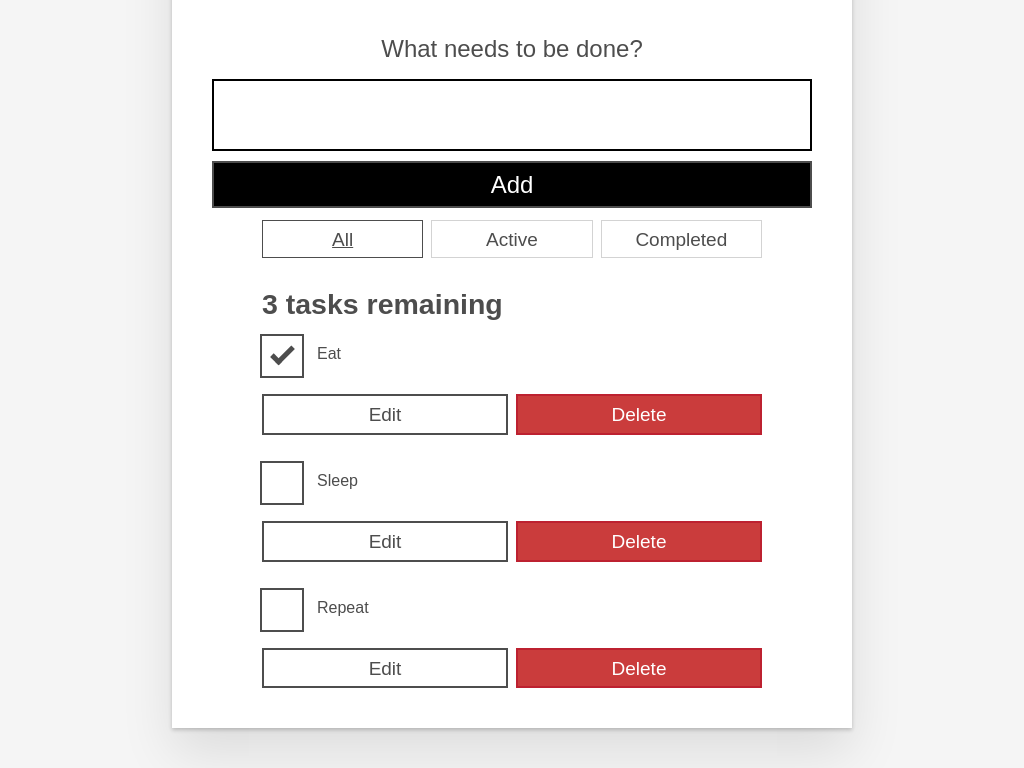
Test: Rendering of the app › should reduce number of tasks
This screenshot has width=1024, height=768.
(page scrolled)
Step 1. Click the button with test id "todo-2" → coordinates (639, 668), box [516,648,762,688]
(page scrolled)
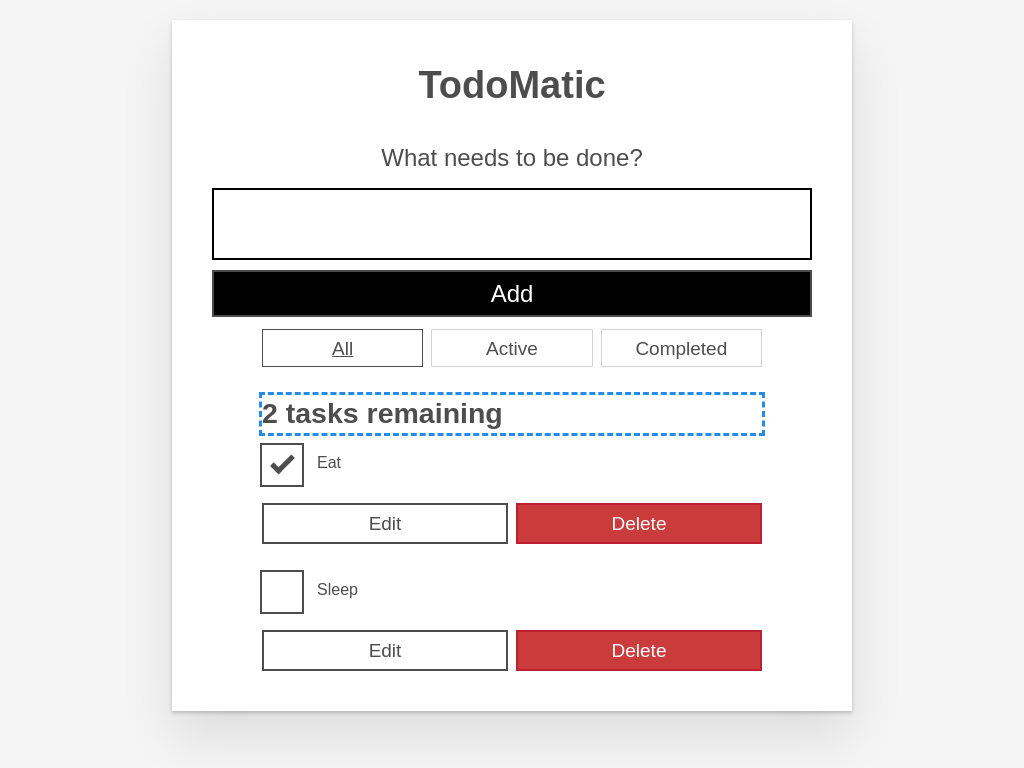
Now the heading with test id "heading" reads "2 tasks remaining", box [262,397,503,429]
